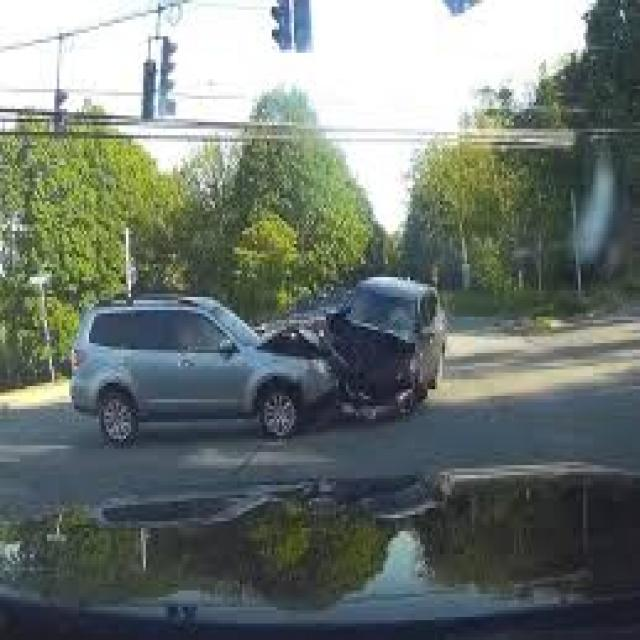accident: (77, 275, 483, 446)
